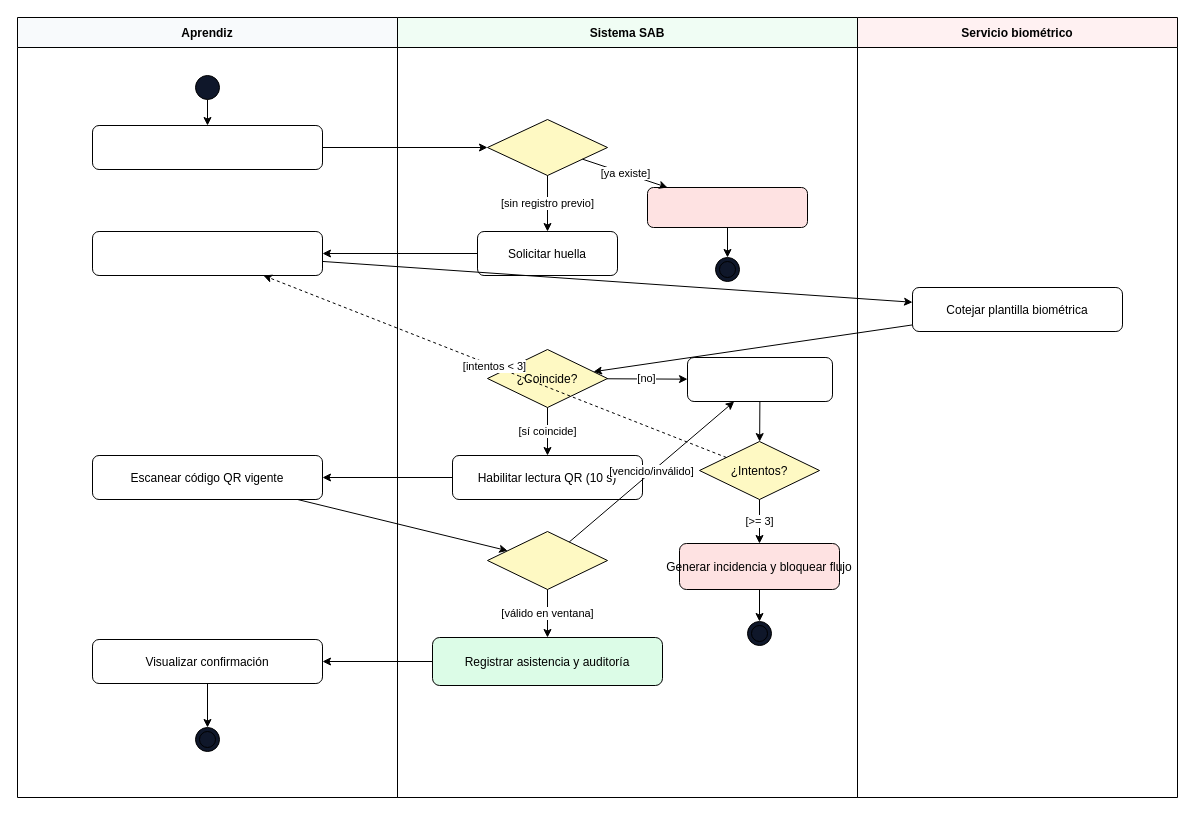
This 1195x815 diagram has some shape labels left out. Each missing label, with the box of its shape:
Capturar muestra de huella: (92, 230, 322, 276)
Informar duplicado: (646, 186, 808, 228)
Seleccionar sesión activa: (92, 124, 322, 170)
Sumar intento: (686, 356, 832, 402)
¿Previa?: (486, 118, 608, 176)
¿QR válido?: (486, 530, 608, 590)
